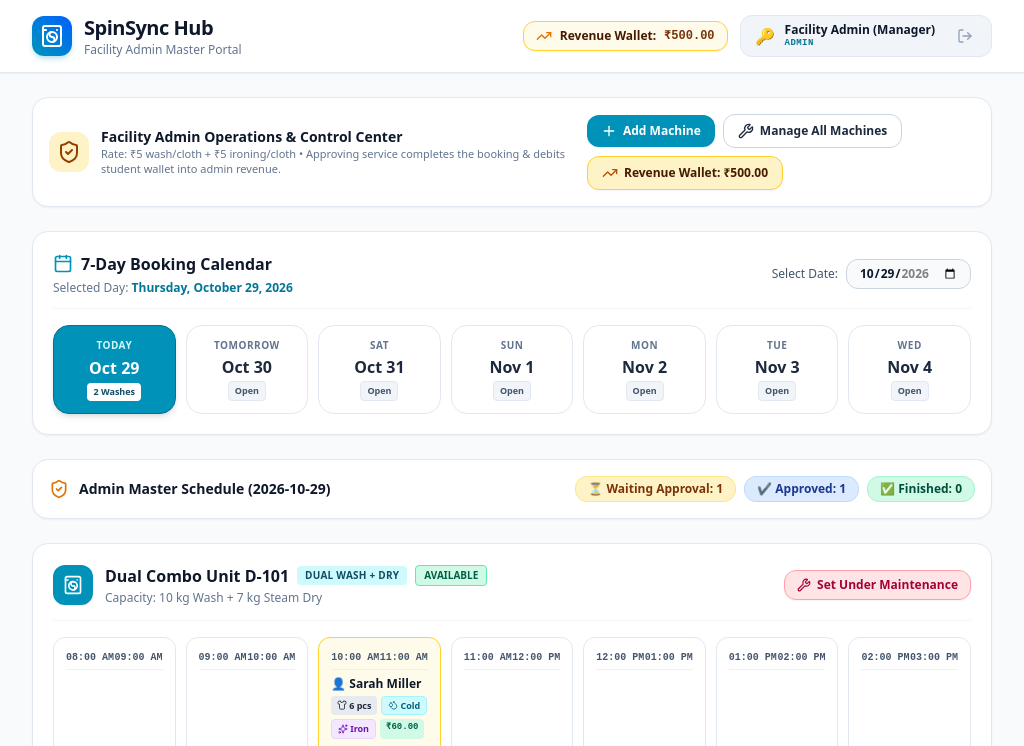
Test: Module: Machine Management (Excluding Login) › allows Admin to add a new machine to the fleet
The image size is (1024, 746).
# Click Add Machine
Click the button "Add Machine" at (651, 131), box 587,115 -> 715,147
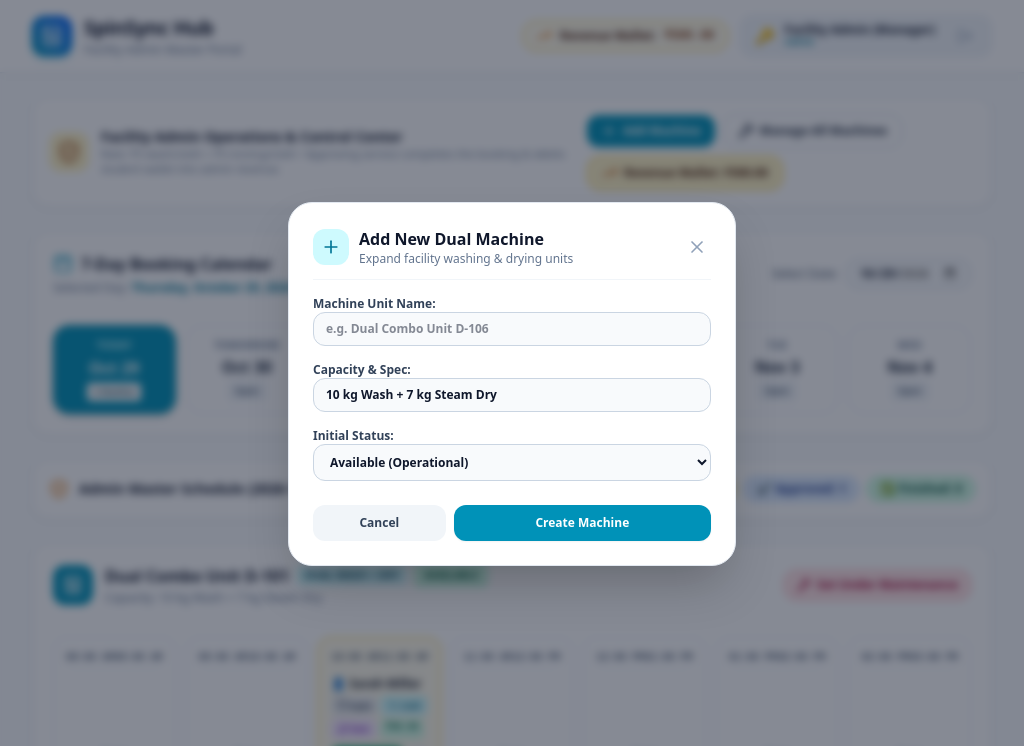
Now the heading "Add New Dual Machine" is shown, box 359,227 -> 573,251
Type "Dual Turbo Unit T-201" into the field with placeholder "e.g. Dual Combo Unit D-106" at (512, 329), box 313,312 -> 711,346
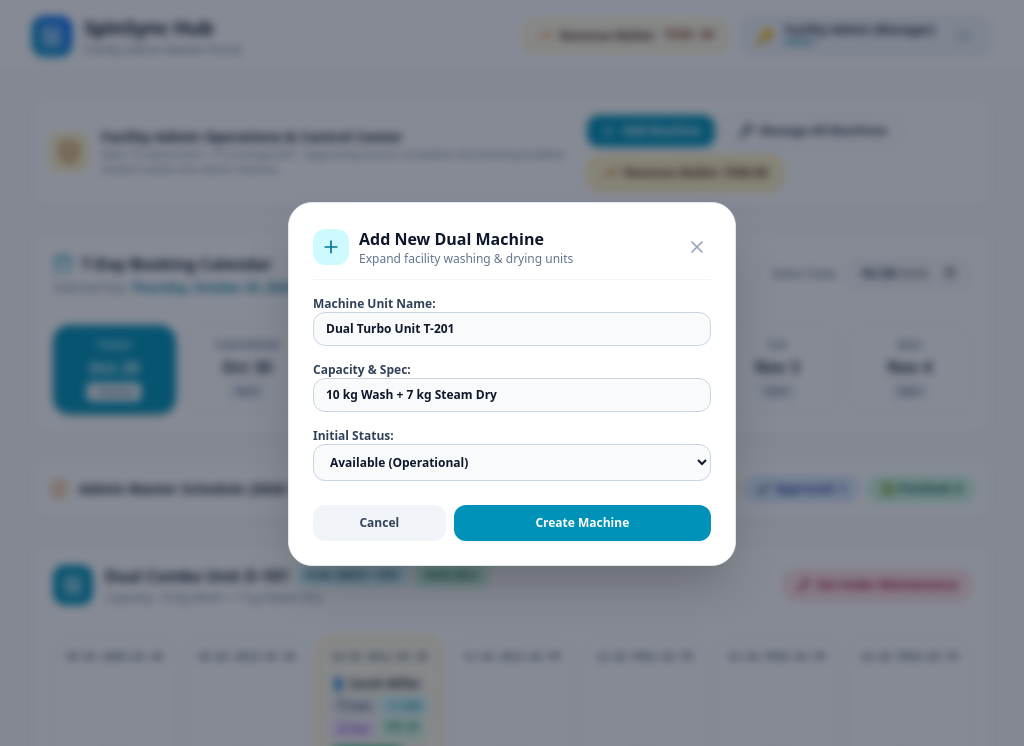
Click the button "Create Machine" at (582, 523), box 454,505 -> 711,541
(page scrolled)
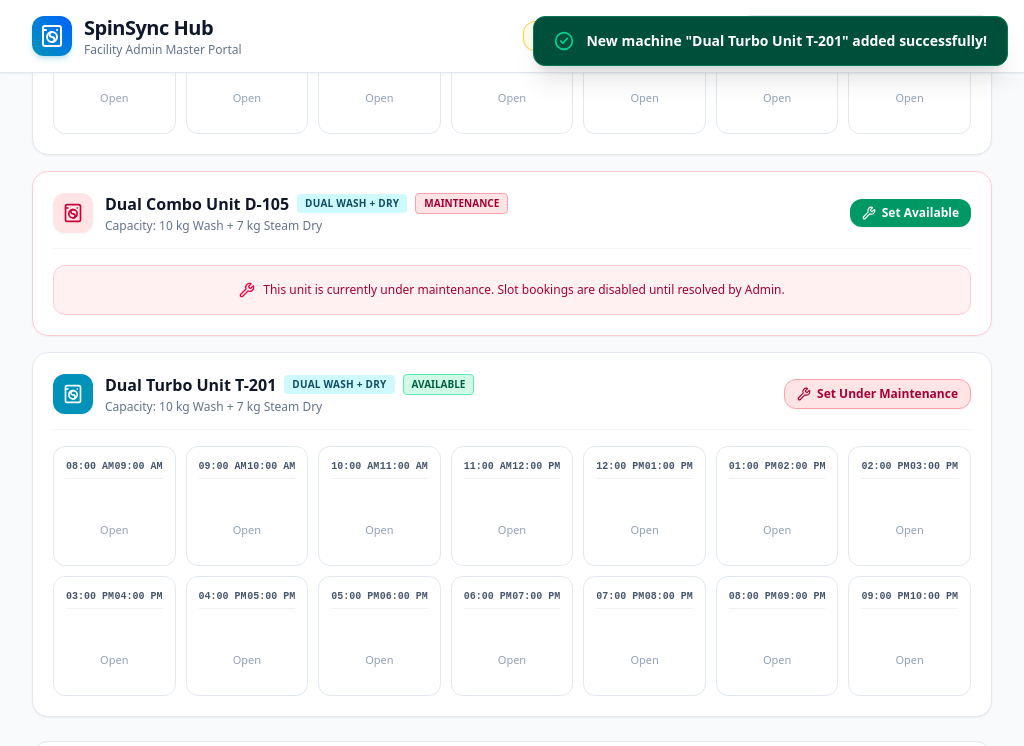
Now the heading "Dual Turbo Unit T-201" is shown, box 105,372 -> 276,396
